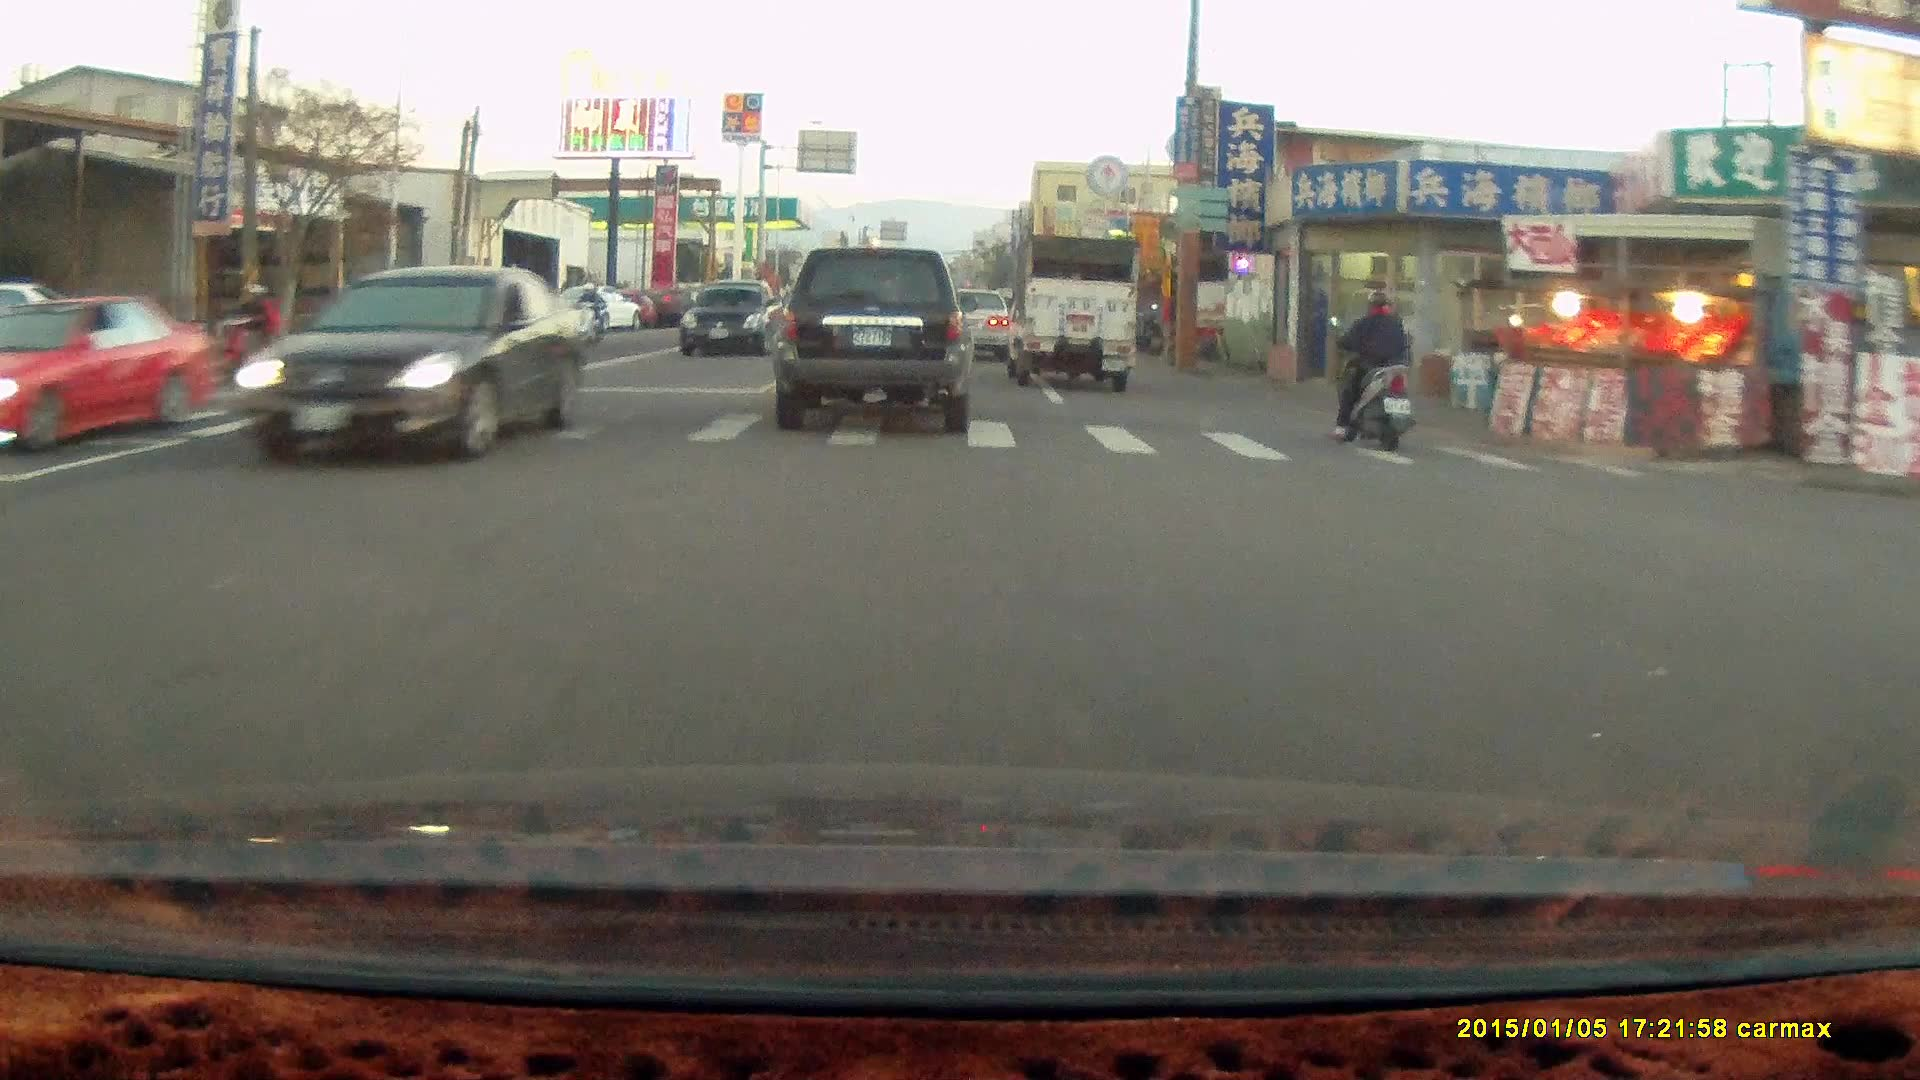rider: (1326, 286, 1417, 452), (206, 278, 283, 383), (565, 281, 605, 355)
vehicle: (228, 262, 594, 467), (773, 246, 980, 433), (1, 294, 228, 461), (1002, 233, 1140, 394), (1, 283, 115, 361), (679, 283, 781, 363), (933, 287, 1009, 361), (949, 290, 1019, 363)
